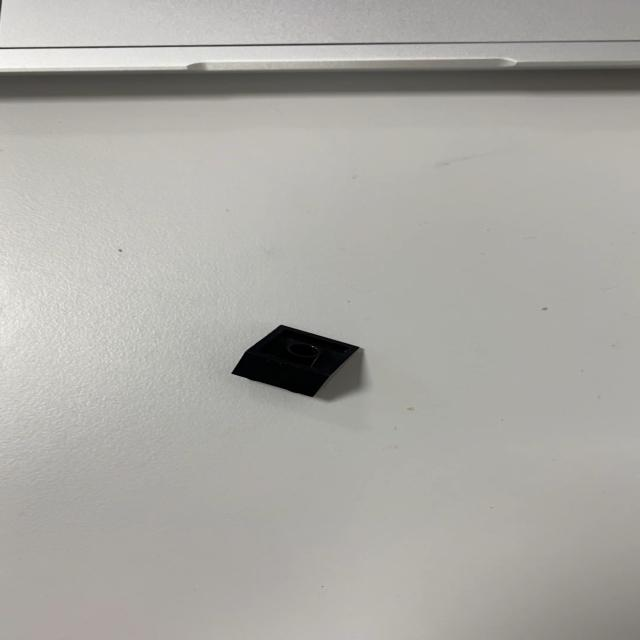P2x2x1: (228, 323, 362, 398)
